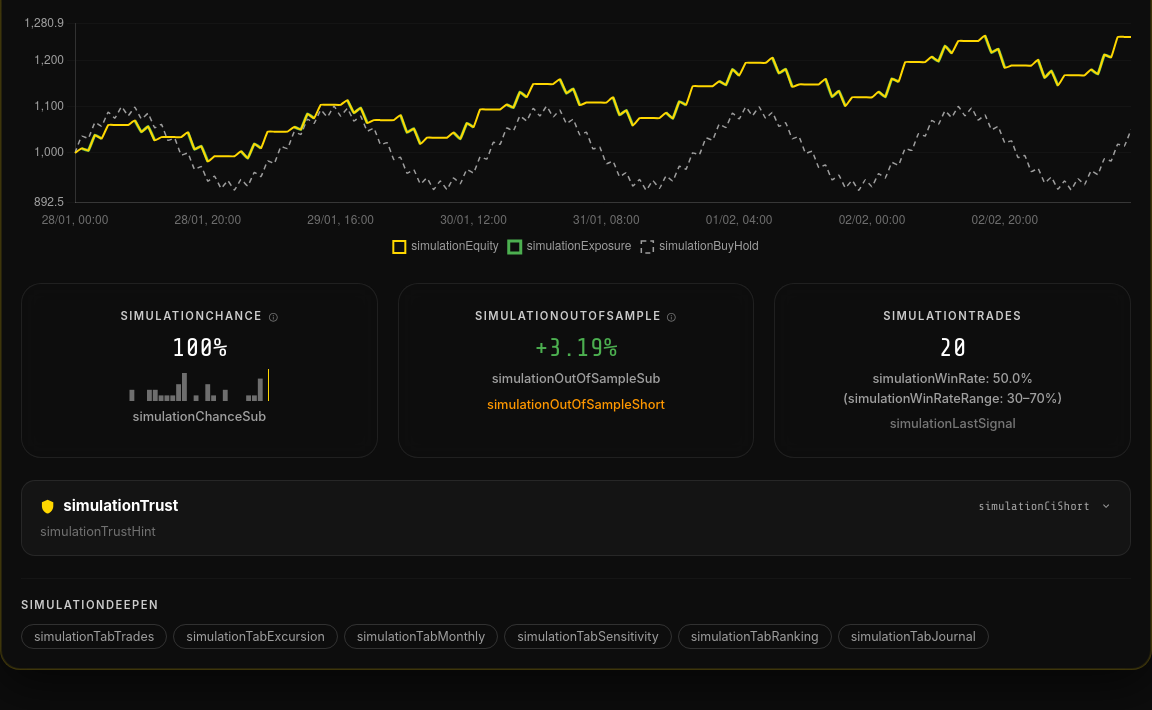
Scenario: SimulationPanel › o que abre com um clique › deve abrir "Dá para confiar?" com robustez, risco, distância do pico e validação
(page scrolled)
What coordinates should you click on to do the following:
click the button "simulationTrust simulationCiShort simulationTrustHint"
I would click on:
 (121, 506)
Its box is [22, 481, 1130, 555].
(page scrolled)
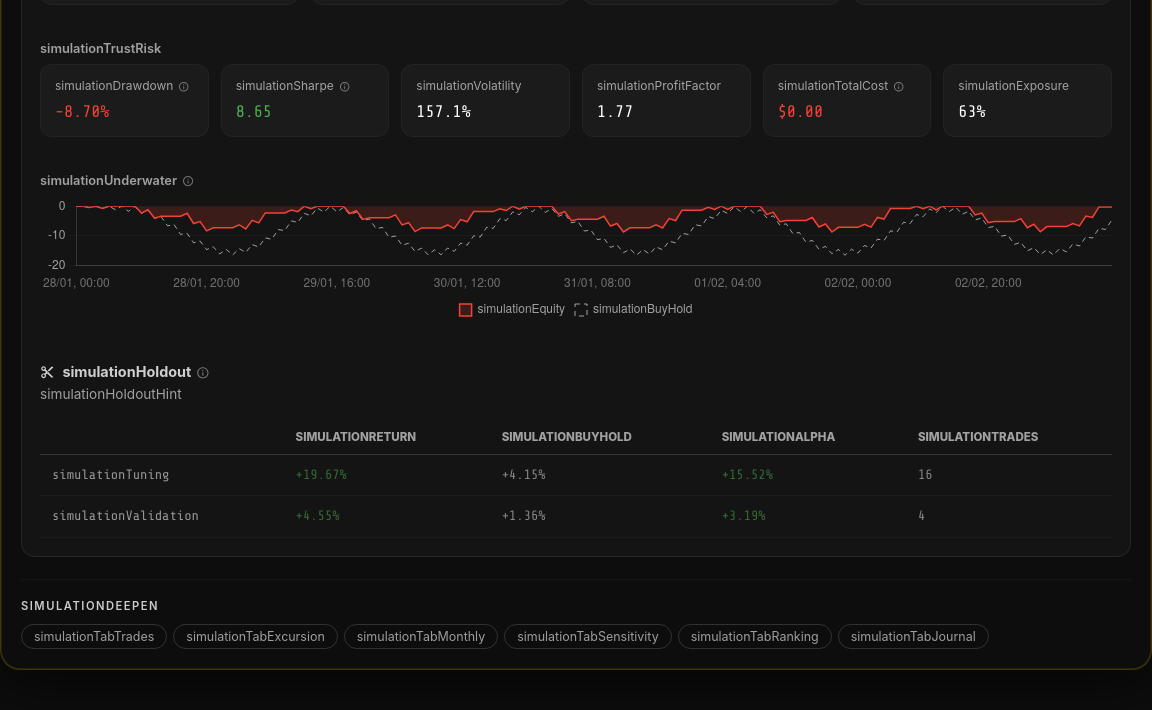
Expected: the heading "simulationTrustRisk" is shown, [40, 41, 161, 56]
Expected: the text "simulationUnderwater" is shown, [40, 173, 194, 188]
Expected: the text "simulationHoldout" is shown, [62, 362, 210, 380]
